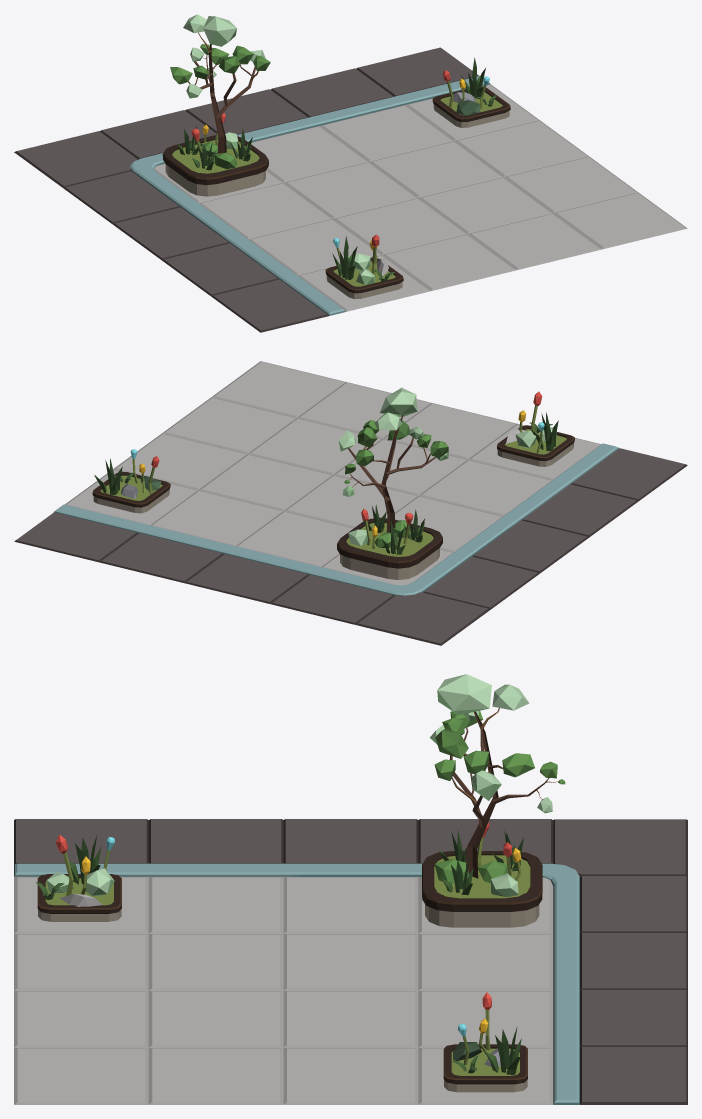
The model's file is OpenCorner_B.glb.
3 renders of one model, top to bottom at view 1: azimuth 30°, elevation 25°; view 2: azimuth 150°, elevation 25°; view 3: azimuth 270°, elevation 25°, orthographic. The views are drawn at different scales.
Visible parts, largest first — view 1: OpenCorner_B, Tree_01.013, Cube.284, Cube.287, Cube.286, Grass_03.658; view 2: OpenCorner_B, Tree_01.013, Cube.284, Cube.287, Cube.286; view 3: OpenCorner_B, Tree_01.013, Cube.284, Cube.287, Cube.286, Grass_03.659.
Boxes of the visible parts, x1,y1,x2,y2 form: OpenCorner_B: (14,47,687,332); Tree_01.013: (170,14,270,153); Cube.284: (162,135,268,196); Cube.287: (432,86,510,127); Cube.286: (325,257,403,299); Grass_03.658: (332,236,357,279); OpenCorner_B: (14,361,687,645); Tree_01.013: (338,387,448,532); Cube.284: (337,517,442,579); Cube.287: (92,471,170,513); Cube.286: (497,425,574,466); OpenCorner_B: (14,819,687,1104); Tree_01.013: (430,674,565,878); Cube.284: (422,851,542,927); Cube.287: (443,1044,527,1092); Cube.286: (37,874,121,921); Grass_03.659: (484,1027,521,1074).
Size of what is drawn, in the model's own units: 16 by 5.93 by 16.
Materials: 1 (1 with a texture image).
